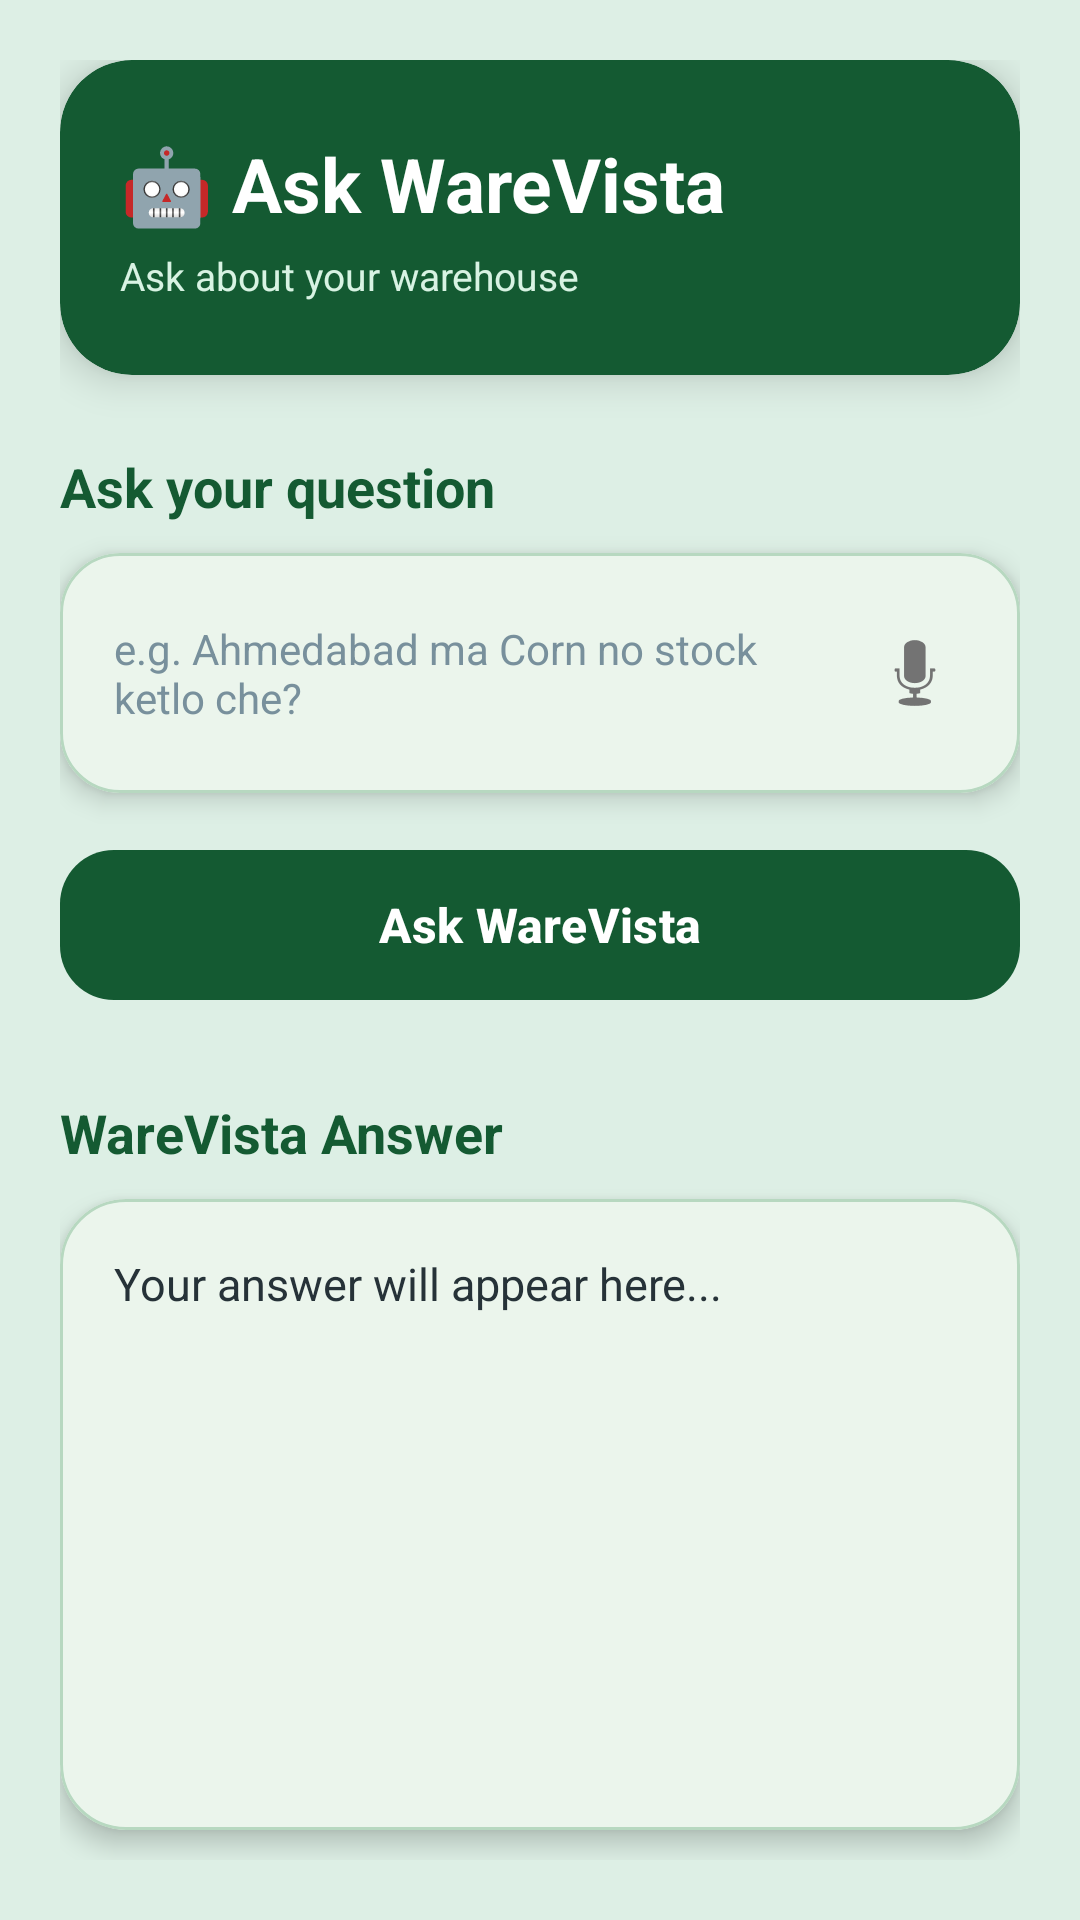

Where to tap for icons on this 1080px×1920px app screen, as [x,y]:
Voice input: [915,673]
